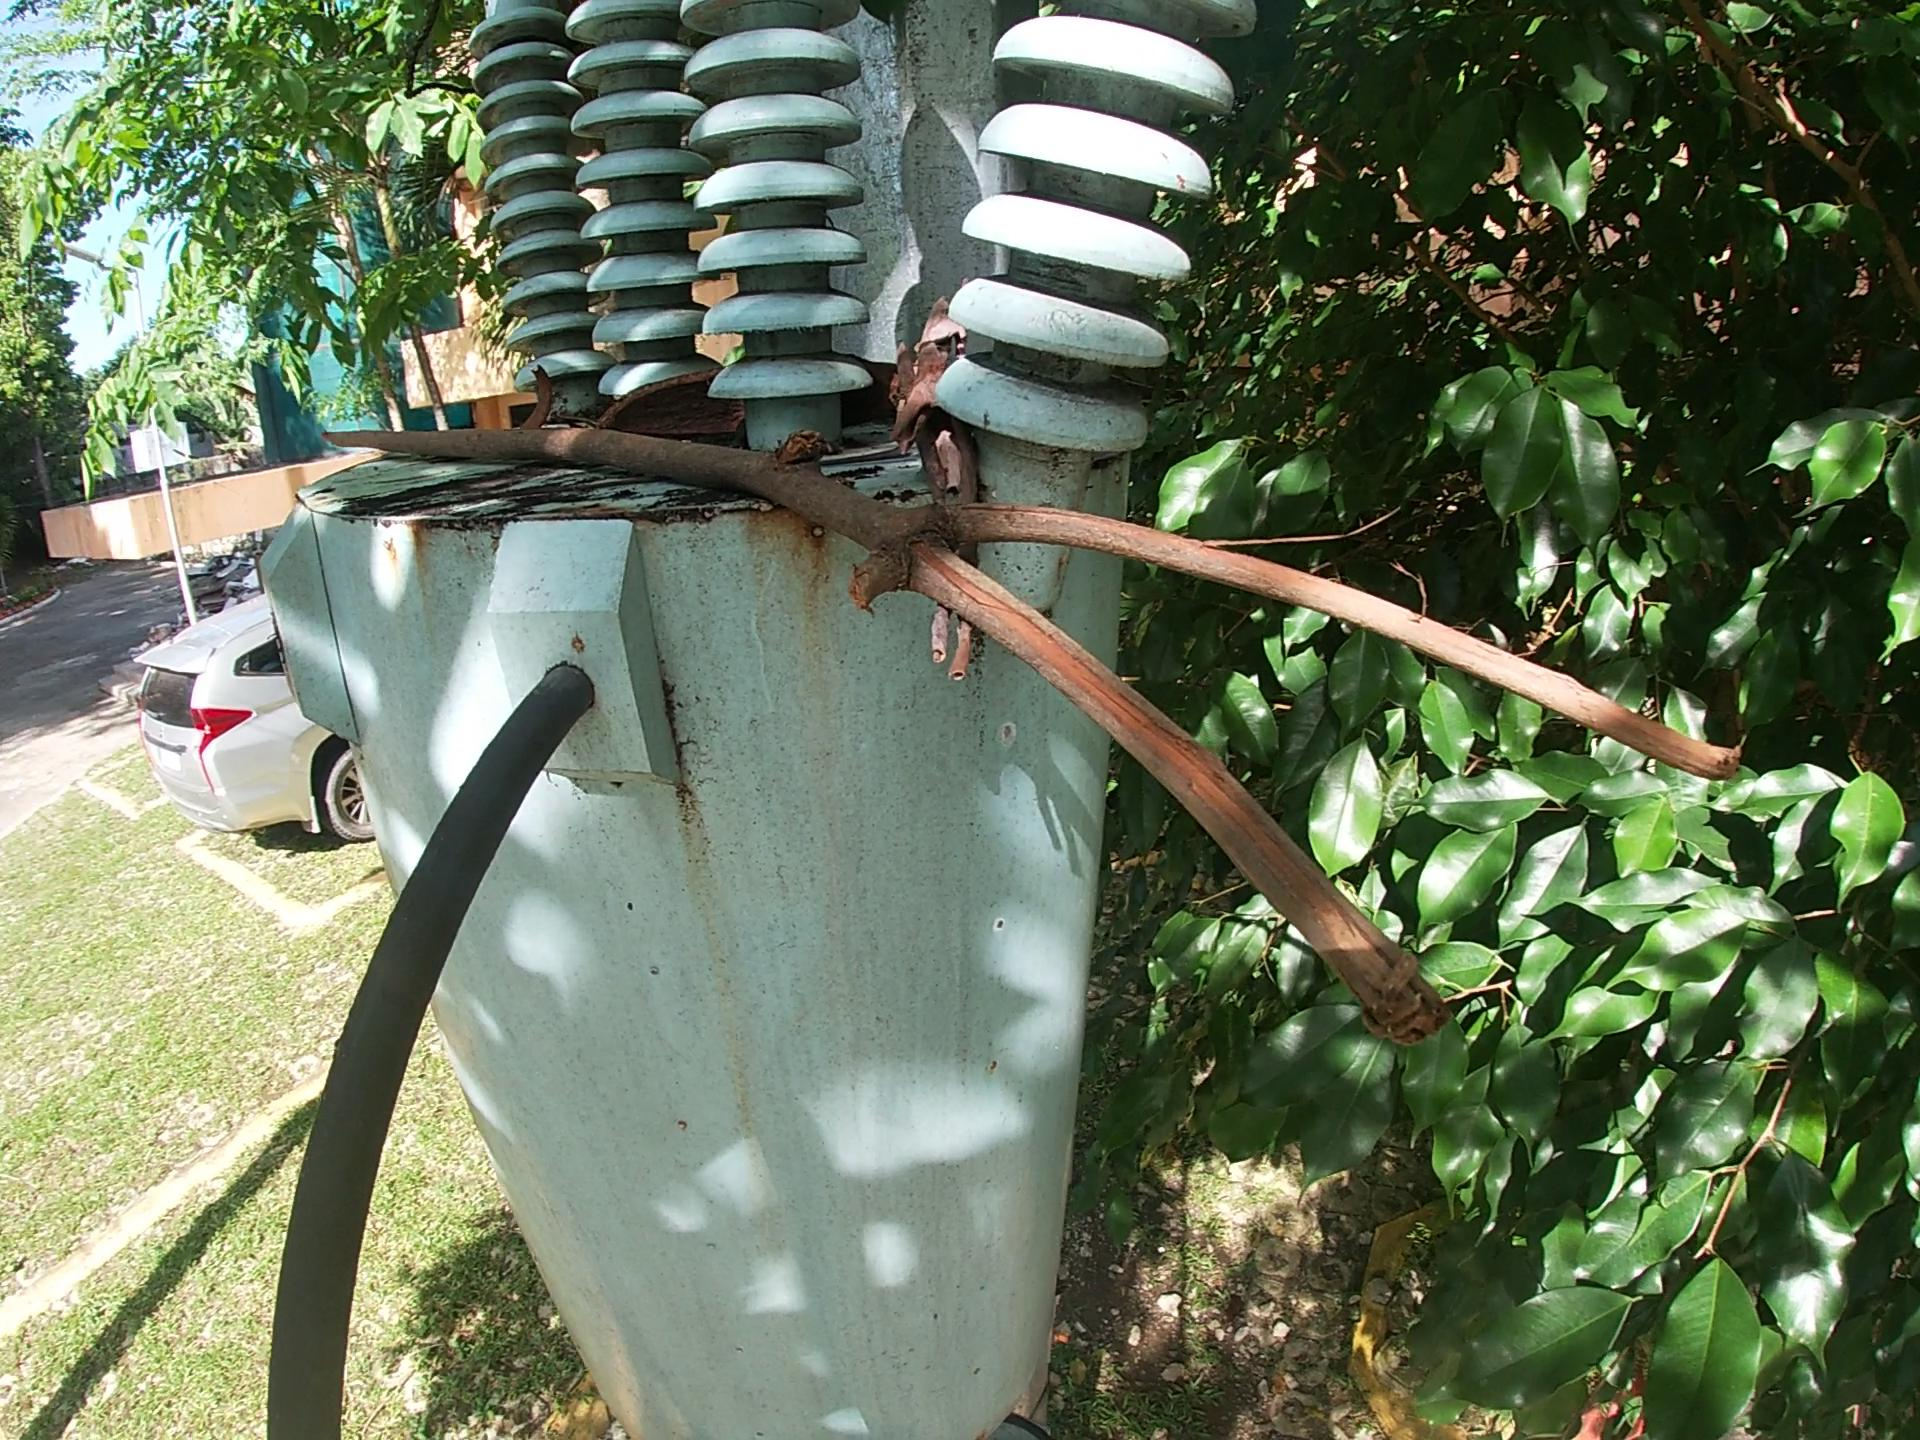mahogany fruit: (596, 348, 912, 452), (519, 362, 561, 424)
tree branch: (308, 408, 1754, 1059), (875, 287, 993, 691)
